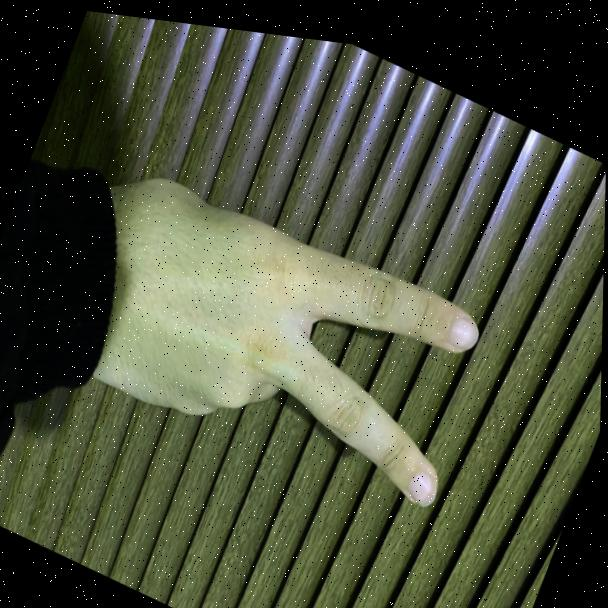two: (66, 129, 517, 544)
